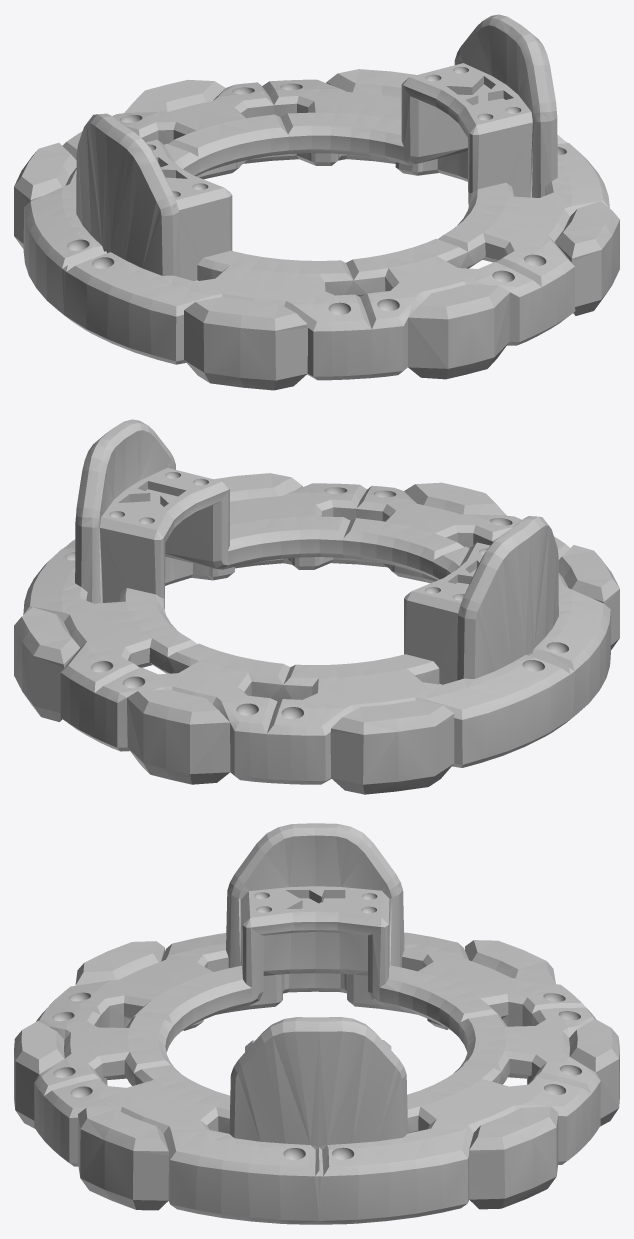
The model's file is Knuckle.obj.
3 renders of one model, top to bottom at view 1: azimuth 30°, elevation 25°; view 2: azimuth 150°, elevation 25°; view 3: azimuth 270°, elevation 25°, orthographic.
Visible parts, largest first — view 1: Mesh_0019out.001; view 2: Mesh_0019out.001; view 3: Mesh_0019out.001.
Part boxes in pixels (x1,y1,x2,y2): Mesh_0019out.001: [14, 14, 619, 390]; Mesh_0019out.001: [14, 419, 619, 794]; Mesh_0019out.001: [14, 823, 619, 1224].
Size of the model in its own units: 0.3839 by 0.138 by 0.3997.
Materials: 1 (1 with a texture image).
